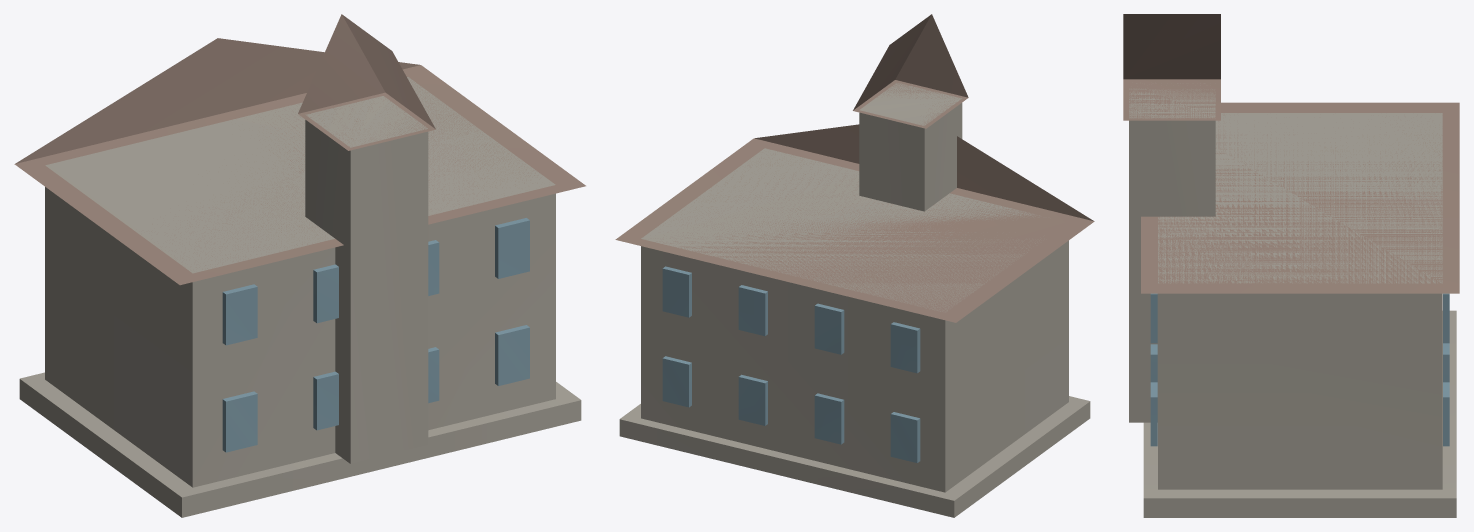
The model's file is church-07.glb.
3 views of the same model, side by side, from view 1: azimuth 30°, elevation 25°; view 2: azimuth 150°, elevation 25°; view 3: azimuth 270°, elevation 25° (orthographic). The views are drawn at different scales.
Parts seen in each view (by area): view 1: world; view 2: world; view 3: world.
Part boxes in pixels (x1,y1,x2,y2): world: [14, 14, 585, 517]; world: [615, 14, 1094, 517]; world: [1123, 14, 1459, 517].
Bounding box in the file's own units: 1.67 × 1.67 × 1.24.
